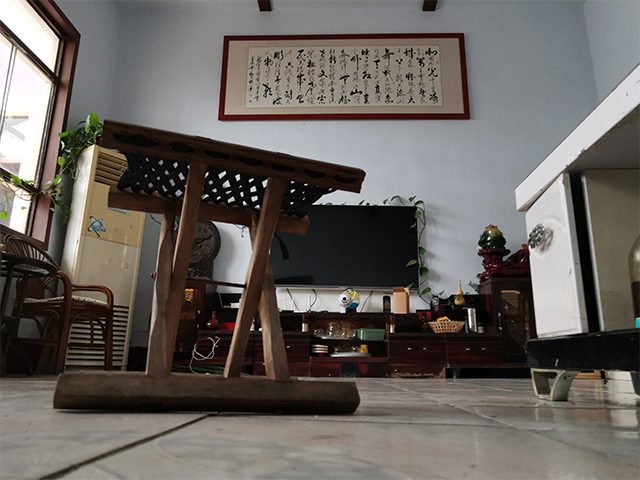cabinet: (512, 61, 640, 403)
stool: (51, 117, 368, 415), (11, 265, 116, 376)
table: (172, 274, 545, 382)
